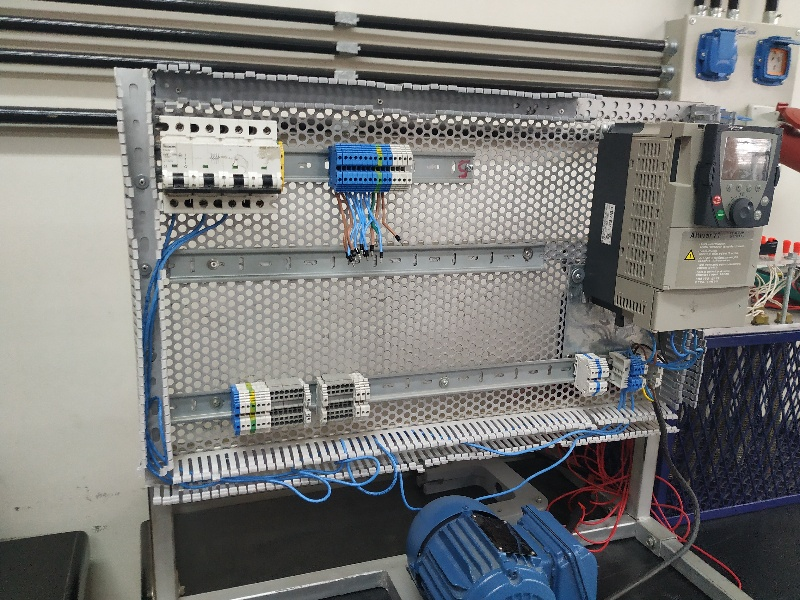Tablero 0: (153, 95, 781, 489)
